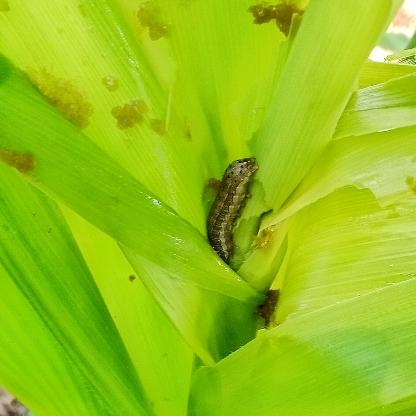Fall Armyworm Larvae: (204, 155, 262, 267)
